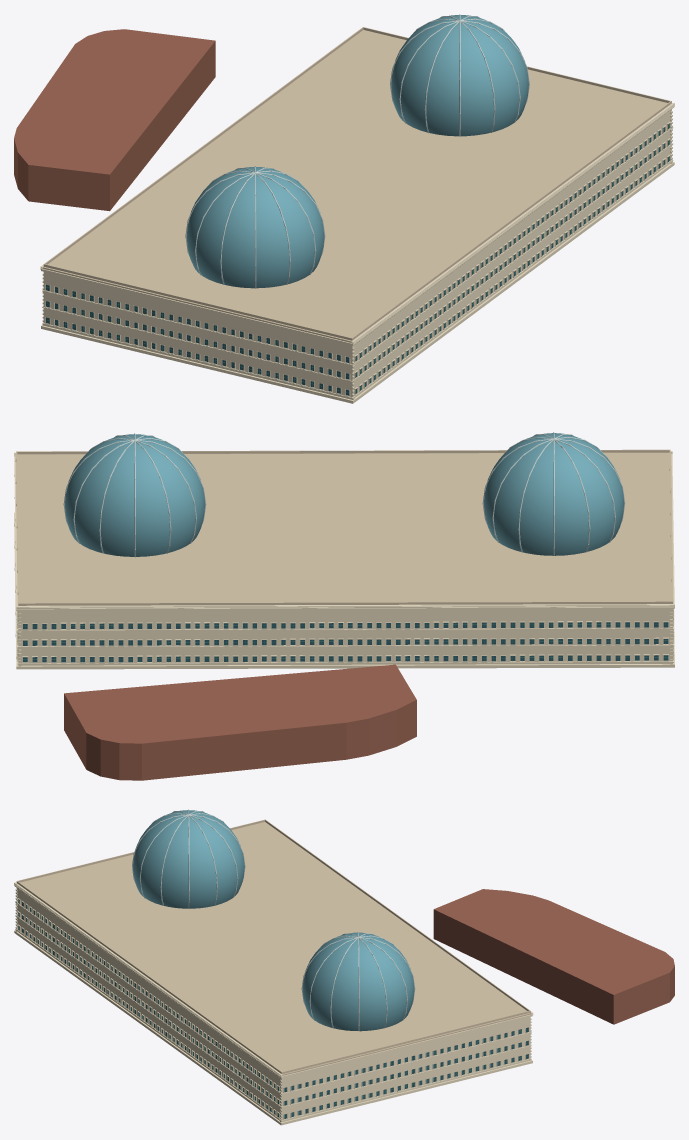
File: city_0_1.glb
3 renders of one model, top to bottom at view 1: azimuth 30°, elevation 25°; view 2: azimuth 150°, elevation 25°; view 3: azimuth 270°, elevation 25°, orthographic. The views are drawn at different scales.
Visible parts, largest first — view 1: city_0_1; view 2: city_0_1; view 3: city_0_1.
Part boxes in pixels (x1=…): city_0_1: x1=14, y1=14, x2=674, y2=403; city_0_1: x1=14, y1=432, x2=674, y2=780; city_0_1: x1=14, y1=809, x2=674, y2=1125.
Bounding box in the file's own units: 188 × 42 × 206.
